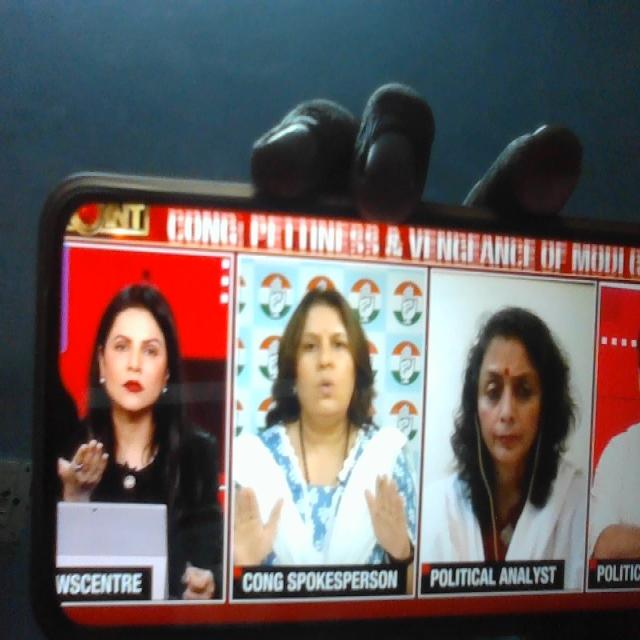fake: (449, 287, 564, 504)
